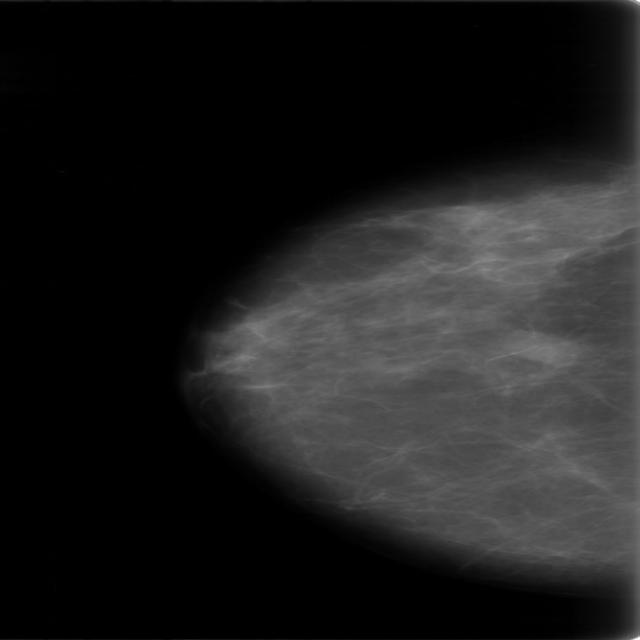tumour: (500, 328, 580, 365)
